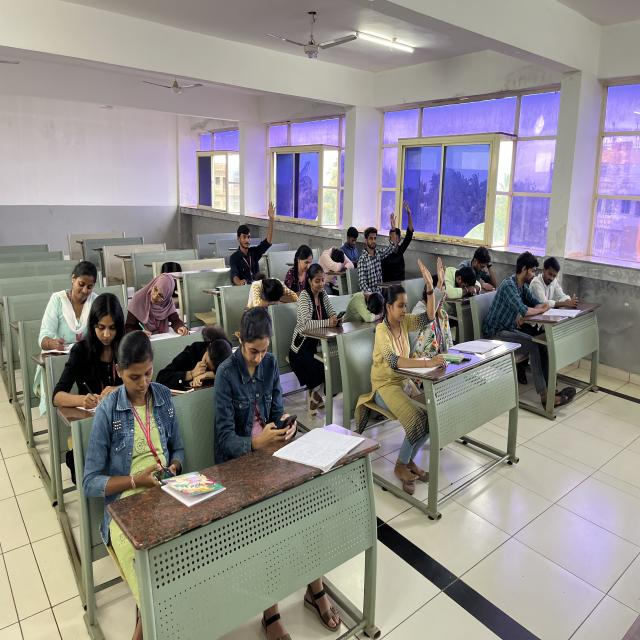Hand Rising: (388, 255, 434, 391), (230, 198, 280, 283), (423, 247, 458, 365), (356, 209, 398, 287), (385, 195, 418, 283)
Reading: (488, 247, 546, 333), (535, 245, 576, 325), (286, 241, 316, 292)
Sleeping: (155, 328, 238, 397), (239, 270, 300, 318), (437, 262, 488, 308), (340, 285, 389, 328), (317, 246, 355, 291)
Using Phone: (82, 330, 194, 503), (210, 302, 302, 455), (296, 260, 348, 358), (463, 245, 500, 288), (339, 222, 364, 264)
Writing: (56, 293, 126, 410), (38, 259, 102, 358), (122, 269, 194, 337)
